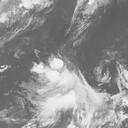cyclone: (30, 57, 89, 110)
